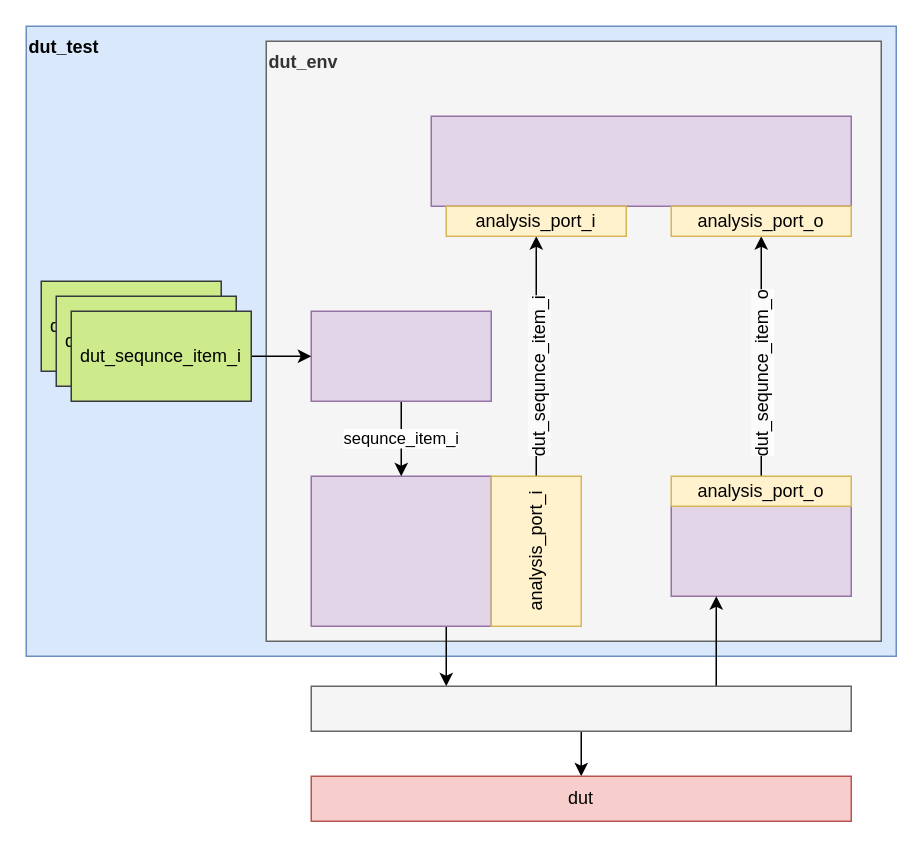
Some shapes in this 923 by 848 pixel diagram are drawn without their labels. The shapes that lost their labels are listed below. From the top down, each one's box as (x1, y1, x2, y2) in pixels, then its label:
(430, 115, 851, 206): dut_scoreboard
(310, 310, 491, 401): dut_sequncer
(310, 475, 491, 626): dut_driver
(670, 505, 851, 596): dut_monitor
(310, 685, 851, 731): dut_if
